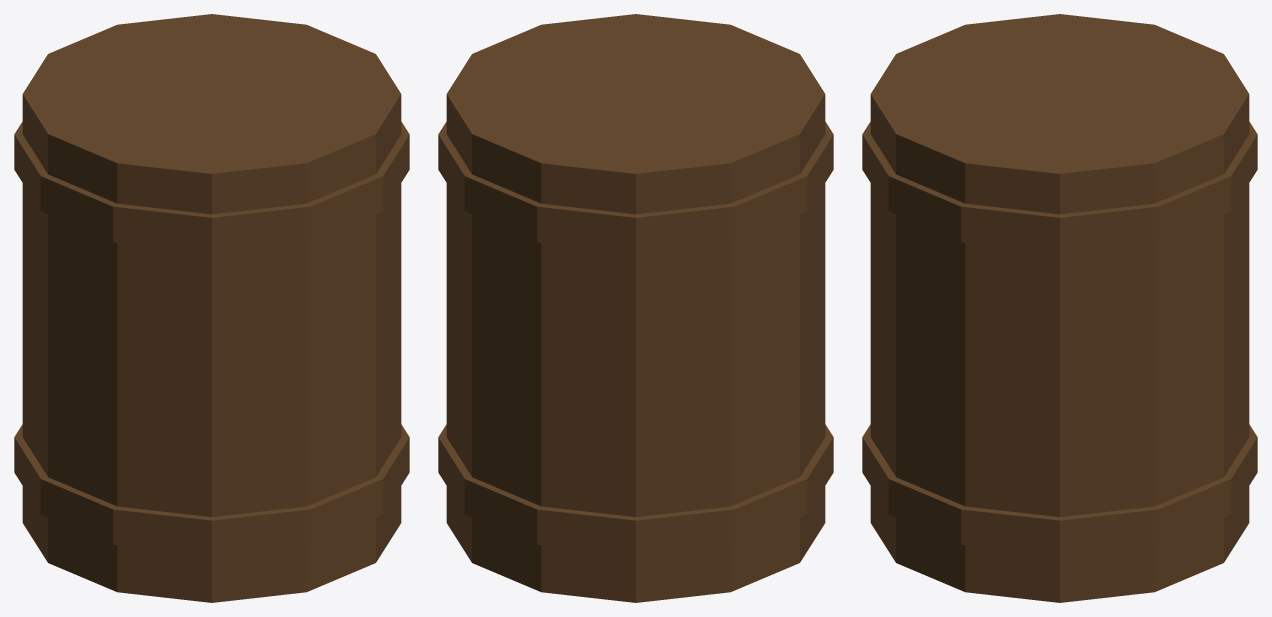
The model's file is Barrel.obj.
The picture shows the model from 3 angles, left to right: view 1: azimuth 30°, elevation 25°; view 2: azimuth 150°, elevation 25°; view 3: azimuth 270°, elevation 25°; orthographic projection.
Parts seen in each view (by area): view 1: wood, iron; view 2: wood, iron; view 3: wood, iron.
Boxes of the visible parts, <box> form: wood: <box>22,14,401,602</box>; iron: <box>14,121,409,555</box>; wood: <box>446,14,825,602</box>; iron: <box>438,121,833,555</box>; wood: <box>870,14,1249,602</box>; iron: <box>862,121,1257,555</box>.
Size of the model in its own units: 0.71 by 0.85 by 0.71.
